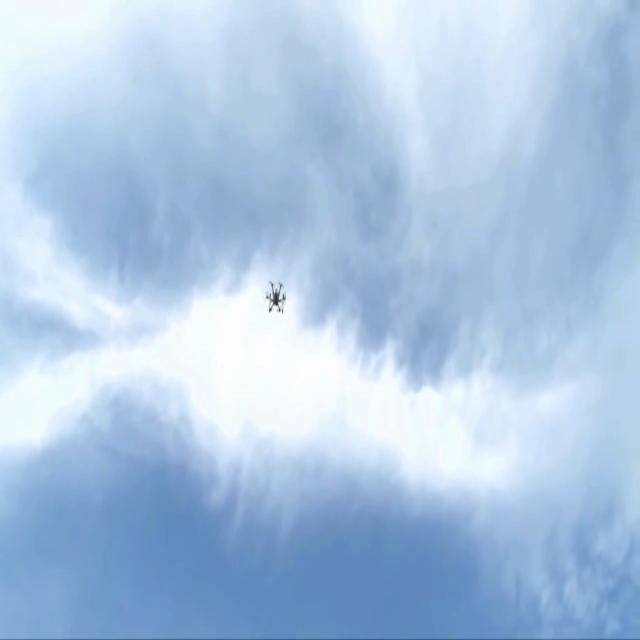drone: (265, 280, 286, 314)
